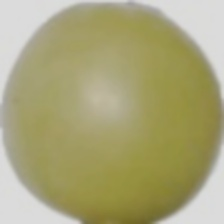grapes: (24, 0, 177, 187)
